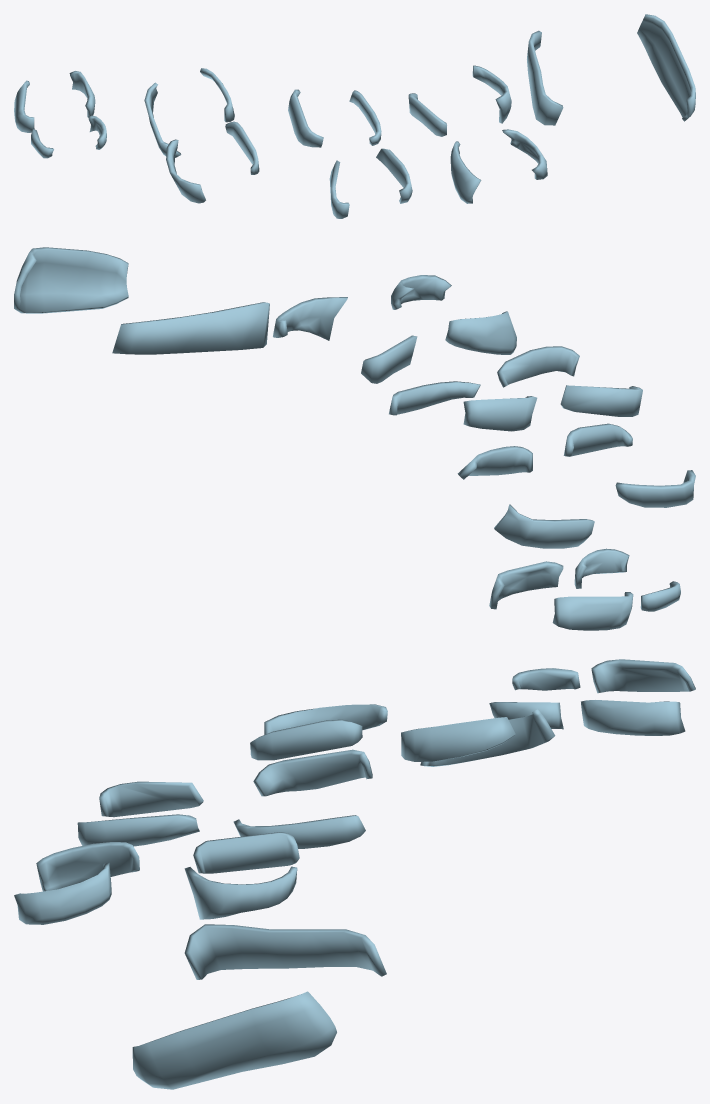
Rendered from articulacoes-collateral-interphalangeal-ligaments-of-foot-r.glb.
3 views of the same model, one above another, from view 1: azimuth 30°, elevation 25°; view 2: azimuth 150°, elevation 25°; view 3: azimuth 270°, elevation 25° (orthographic). The views are drawn at different scales.
Visible parts, largest first — view 1: Collateral interphalangeal ligaments of foot.r; view 2: Collateral interphalangeal ligaments of foot.r; view 3: Collateral interphalangeal ligaments of foot.r.
Boxes of the visible parts, box(x1,y1,x2,y2) form: Collateral interphalangeal ligaments of foot.r: box(14, 14, 695, 218); Collateral interphalangeal ligaments of foot.r: box(14, 247, 695, 630); Collateral interphalangeal ligaments of foot.r: box(14, 659, 695, 1089).
Size of the model in its own units: 0.078 by 0.00926 by 0.0544.
